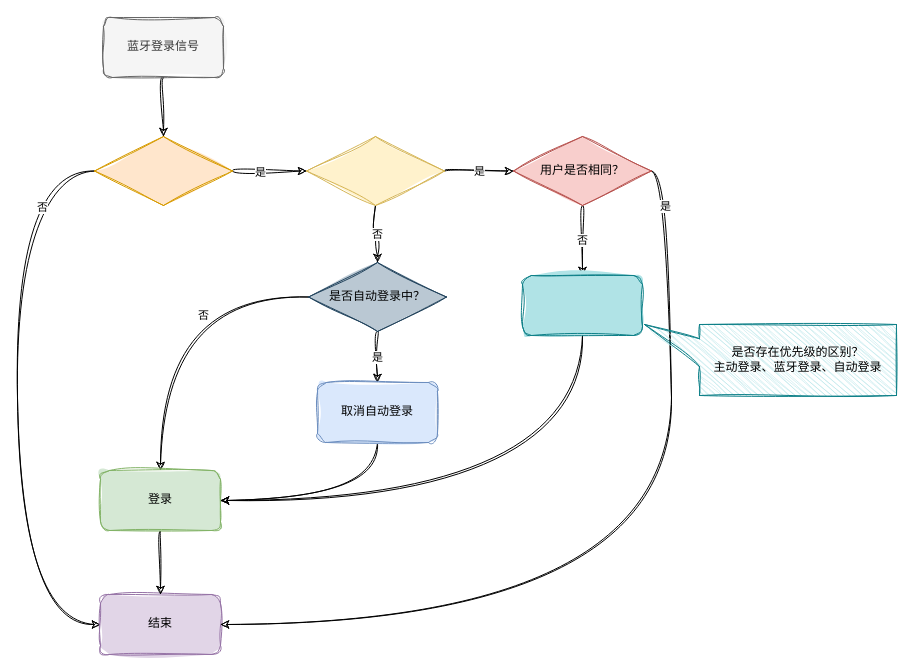
Some shapes in this 915 by 672 pixel diagram are drawn without their labels. Here are the shapes that lost their labels. From the top down, the centre of each, then its label:
At pixel 163 171: "UserId是否缓存过？".
At pixel 375 171: "当前已登录？".
At pixel 582 305: "当前用户登出".
